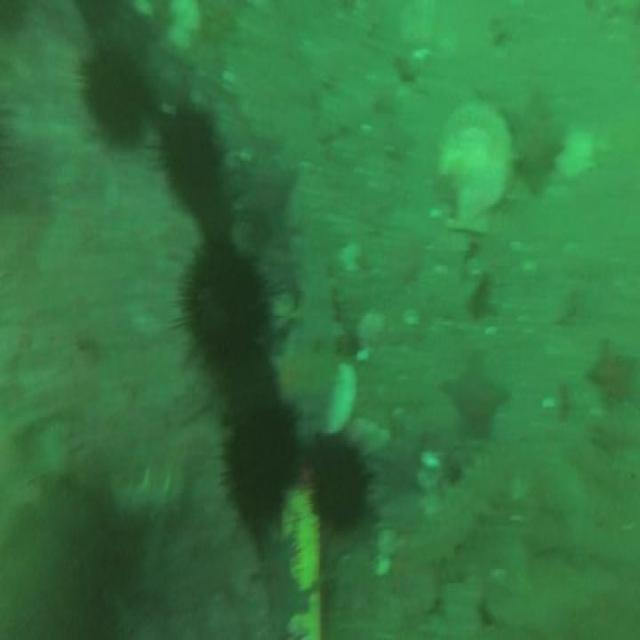echinus: (229, 406, 298, 533), (185, 247, 257, 357), (158, 114, 218, 213), (85, 51, 143, 147), (316, 444, 364, 528)
holothurian: (417, 446, 515, 558), (279, 234, 339, 412), (109, 466, 182, 533)
scallop: (440, 99, 511, 234)
starfish: (438, 356, 510, 440), (500, 98, 560, 190), (236, 155, 296, 242), (369, 427, 425, 502), (586, 337, 637, 414)
